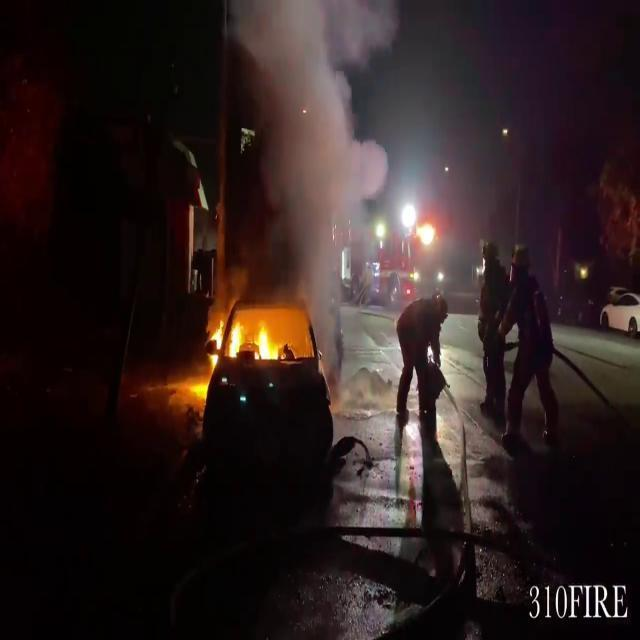Fire: (207, 311, 275, 365)
Smoke: (228, 0, 376, 288)
